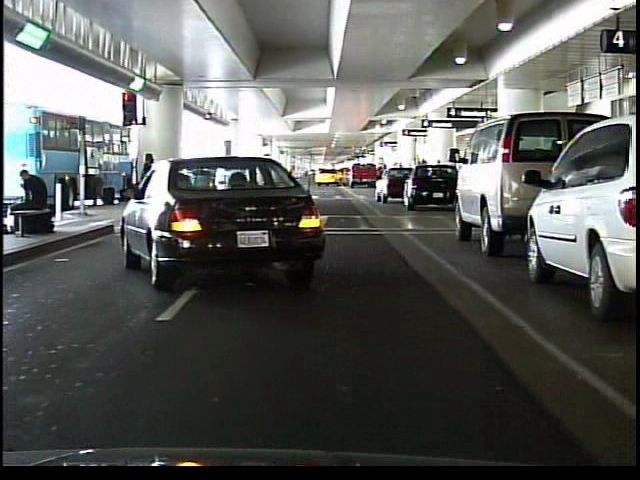person: (14, 165, 52, 242), (128, 150, 157, 231)
